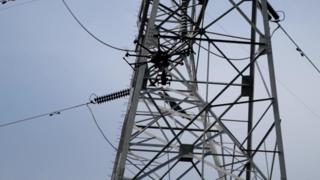UAV: (123, 34, 193, 86)
